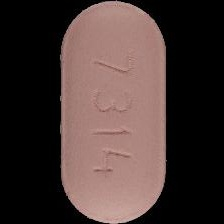63187-362: (0, 0, 224, 224)
